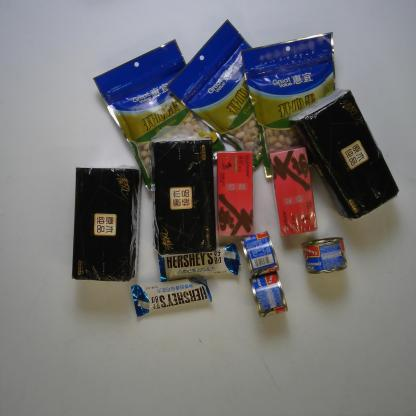Canned Food: (239, 230, 279, 279), (248, 271, 288, 318), (301, 238, 348, 275)
Chocolate: (129, 276, 216, 319), (154, 241, 241, 282)
Dried Fruit: (92, 38, 228, 198), (163, 16, 265, 174), (238, 29, 339, 180)
Instant Drink: (267, 147, 319, 238), (215, 149, 255, 238)
Tissue: (288, 86, 402, 220), (146, 134, 218, 256), (71, 166, 141, 284)
